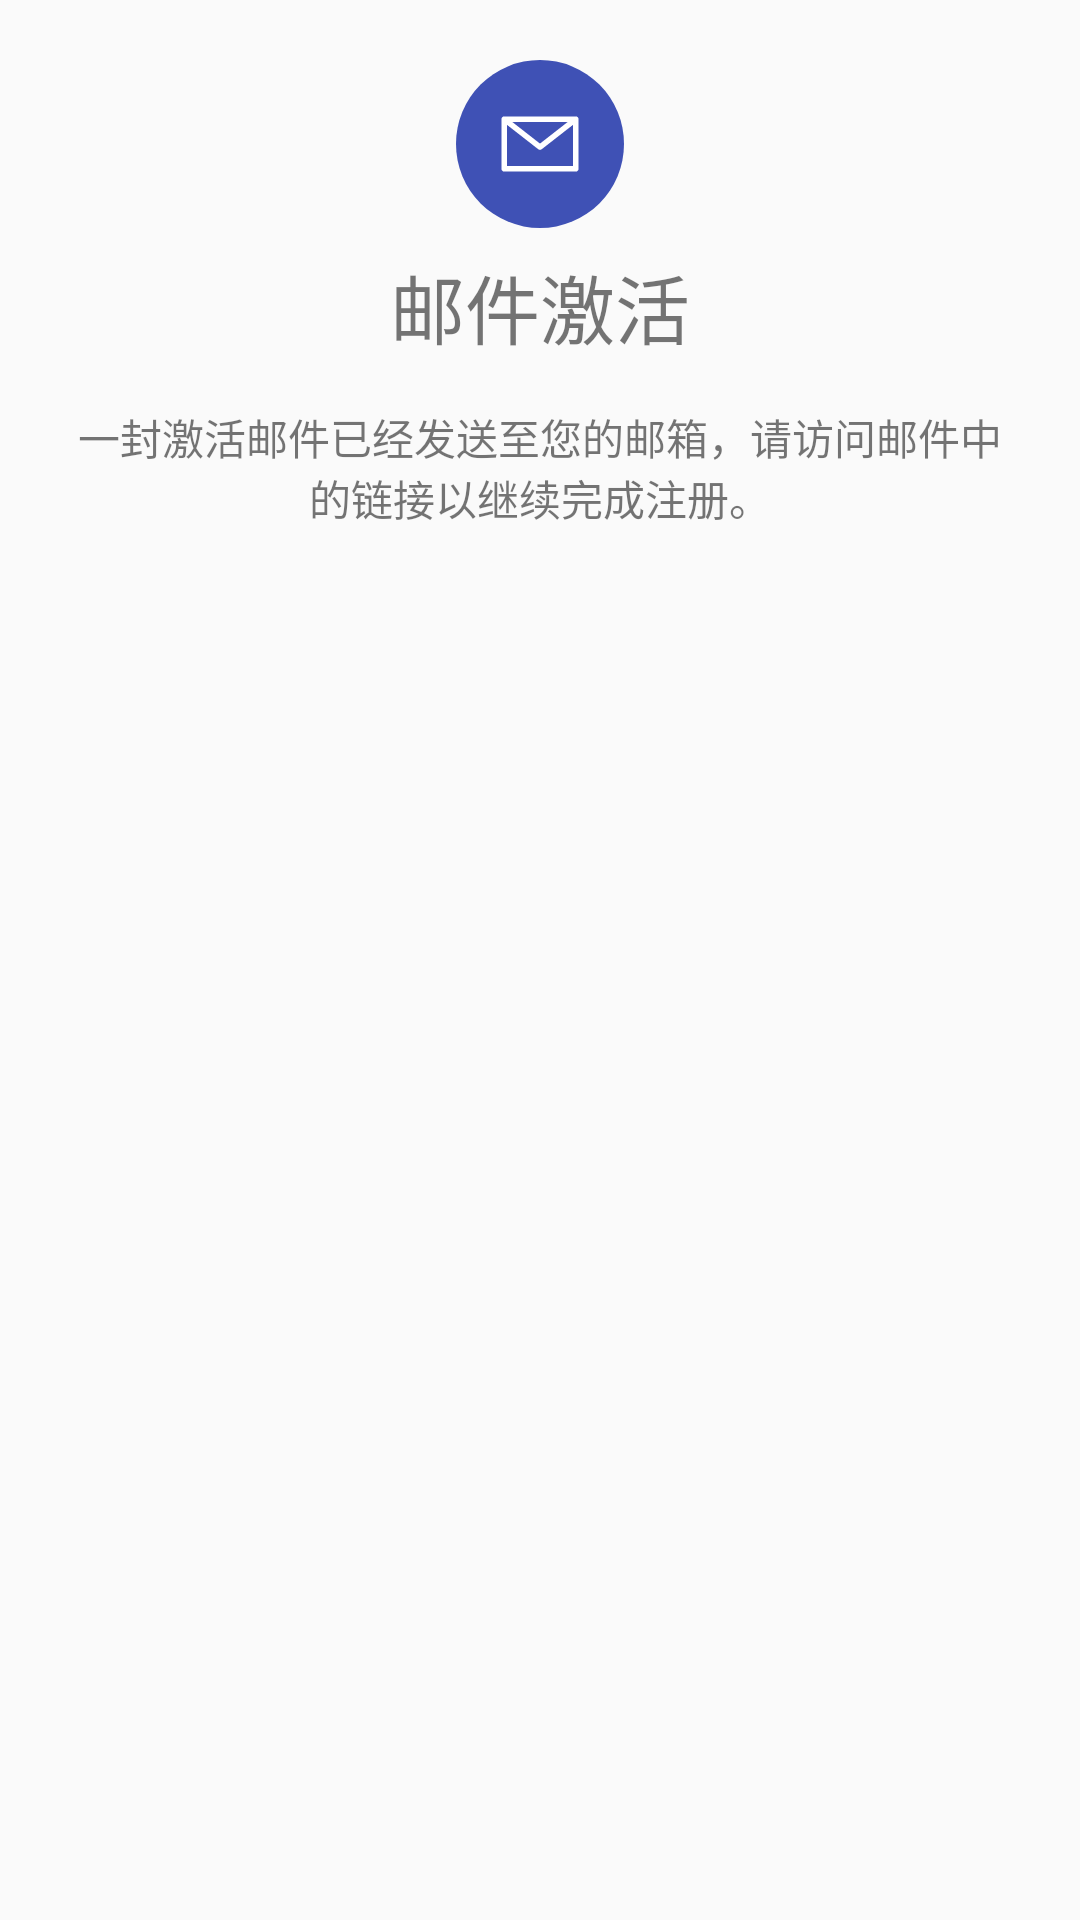

Screen size 1080*1920. Icon name, then its center in pixels as (x,y):
email: (540,144)
